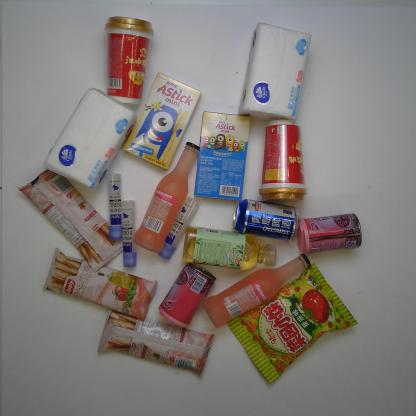Alcohol: (201, 254, 311, 328), (134, 140, 199, 254), (232, 198, 301, 242)
Canned Food: (157, 262, 216, 328), (295, 214, 363, 254)
Dessert: (18, 163, 131, 273), (41, 248, 158, 321), (96, 309, 216, 379), (123, 73, 202, 171), (194, 111, 251, 202)
Drink: (181, 225, 278, 269)
Instant Drink: (103, 17, 154, 106), (260, 119, 306, 204)
Puffed Food: (227, 264, 357, 384)
Stationery: (158, 196, 200, 258), (106, 174, 123, 242), (120, 200, 137, 268)
Tissue: (45, 88, 136, 193), (239, 24, 313, 122)
